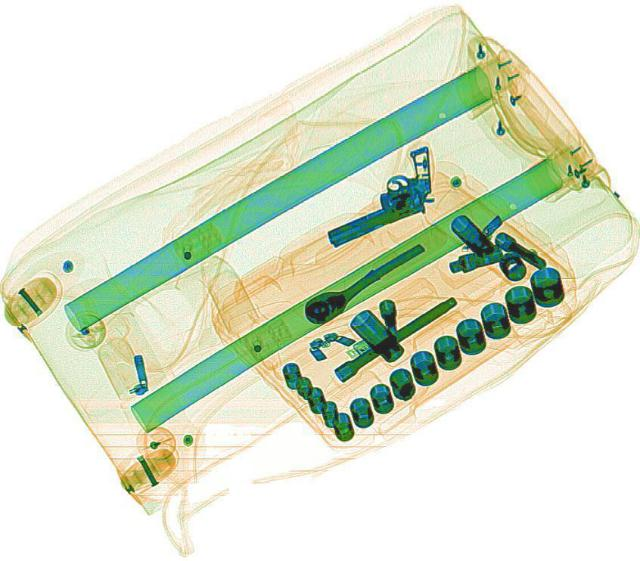Gun: (298, 142, 464, 251)
